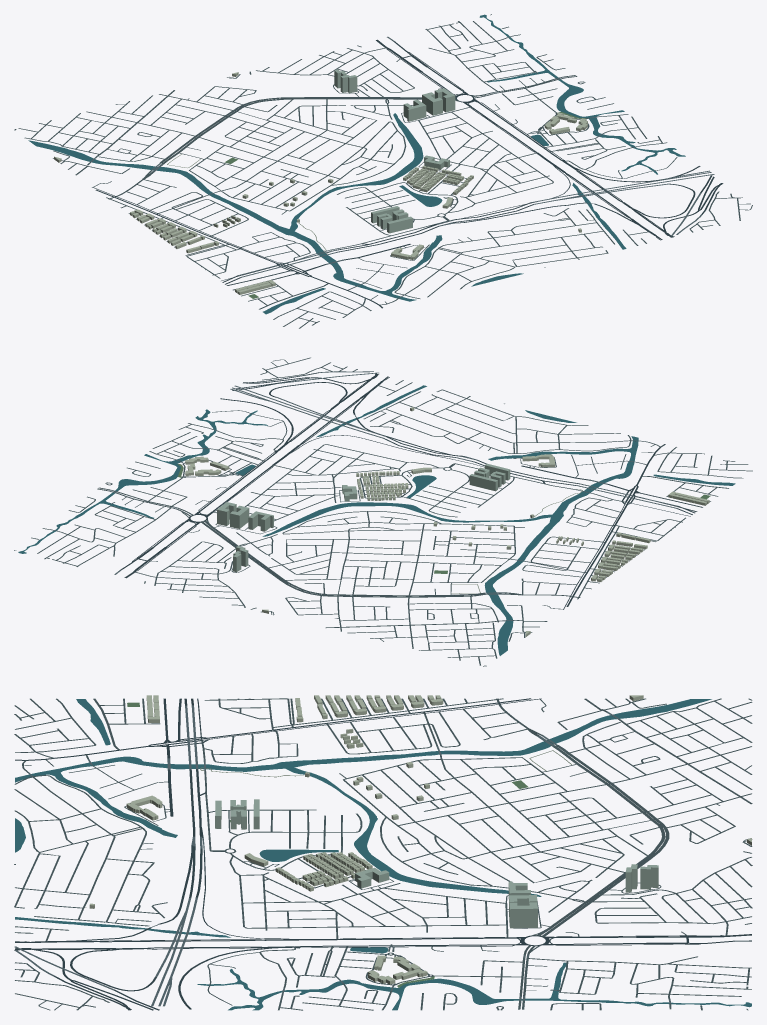
3 renders of one model, top to bottom at view 1: azimuth 30°, elevation 25°; view 2: azimuth 150°, elevation 25°; view 3: azimuth 270°, elevation 25°, orthographic. The views are drawn at different scales.
Visible parts, largest first — view 1: street, water, major, building, building-tagged, bridge; view 2: street, water, major, building, building-tagged, bridge; view 3: street, water, major, building, building-tagged, bridge.
Boxes of the visible parts, x1,y1,x2,y2 form: street: [14, 14, 752, 328]; water: [28, 14, 685, 314]; major: [92, 39, 723, 308]; building: [54, 72, 587, 294]; building-tagged: [334, 69, 455, 233]; bridge: [90, 35, 714, 298]; street: [14, 357, 752, 666]; water: [18, 385, 735, 655]; major: [120, 372, 702, 609]; building: [185, 407, 709, 636]; building-tagged: [217, 463, 510, 572]; bridge: [50, 371, 678, 621]; street: [14, 698, 752, 1010]; water: [15, 699, 751, 1010]; major: [15, 698, 751, 1010]; building: [89, 695, 751, 984]; building-tagged: [215, 799, 658, 928]; bridge: [14, 705, 751, 1006].
Bounding box in the file's own units: 2005 × 61 × 2005.
